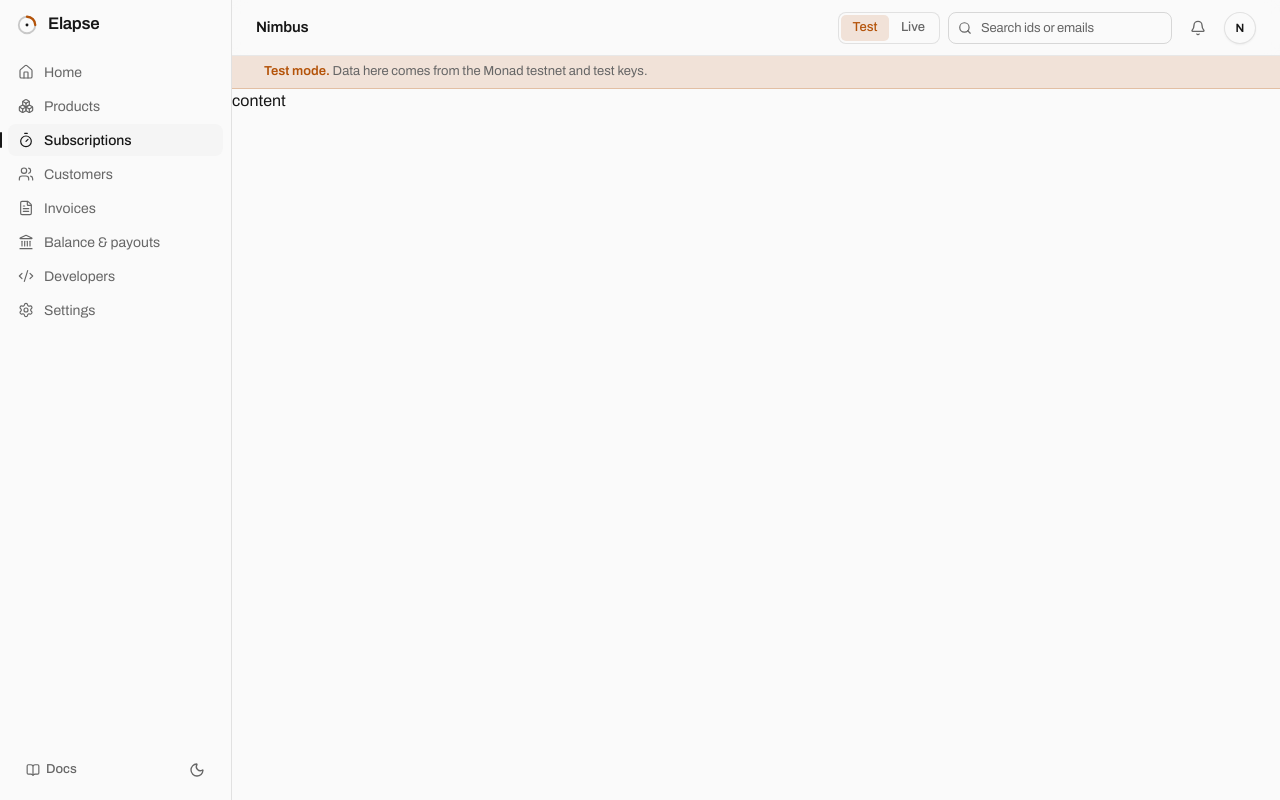
Test: DashboardShell › starts in test mode with the banner and switches to live (FR-DSH-003)
This screenshot has width=1280, height=800.
Expected: the message "Test mode. Data here comes from the Monad testnet and test keys." is shown, [232,56,1279,88]
Click the radio button labelled "Live".
click(913, 28)  # box [889,14,937,40]
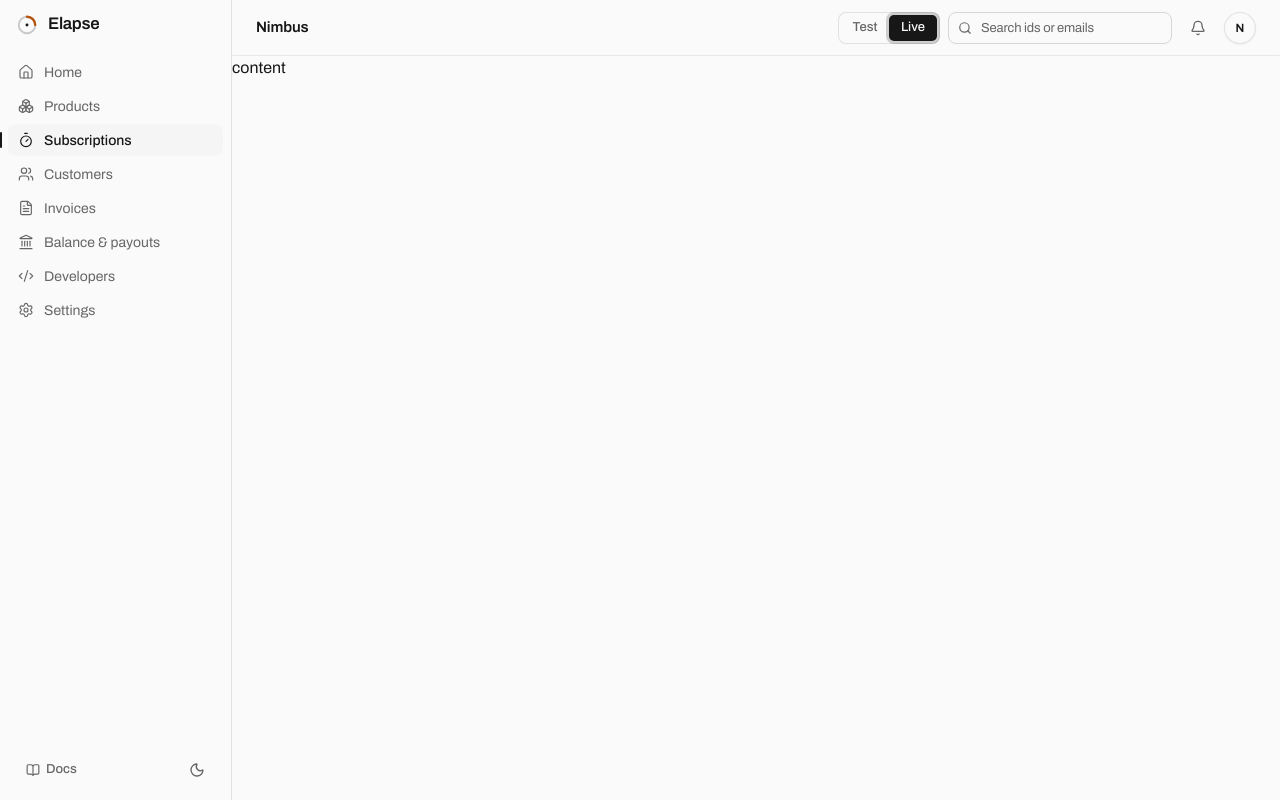
Expected: the text "Test mode" is gone
